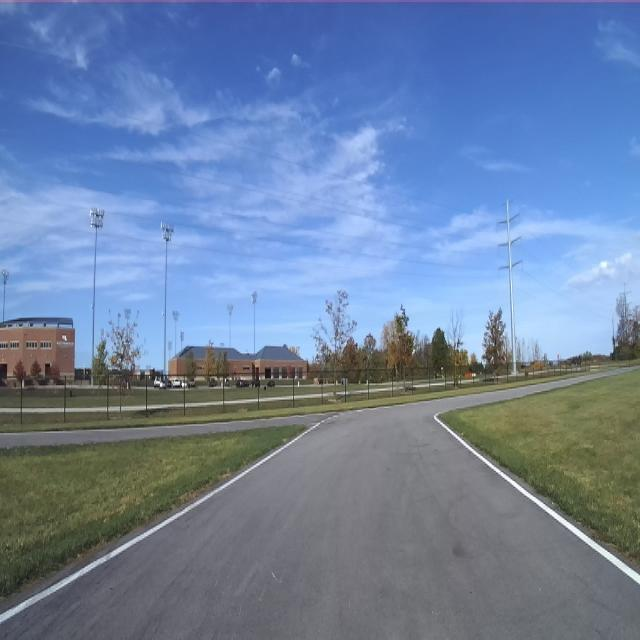white-line: (0, 419, 324, 623), (434, 412, 640, 585), (332, 414, 338, 417), (328, 417, 330, 419)
